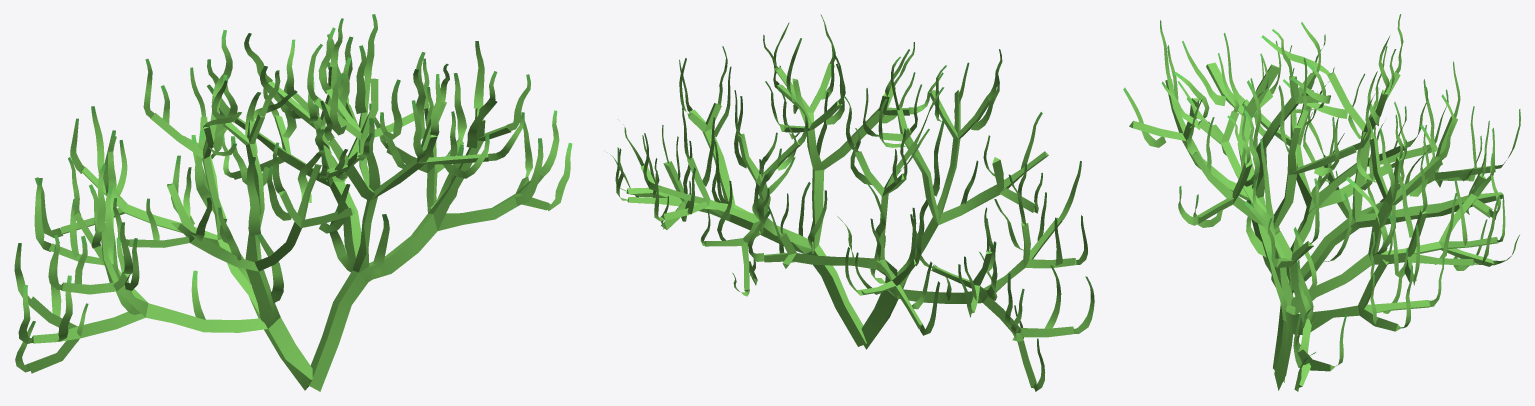
The model's file is coral_A_dense.fbx.
3 renders of one model, left to right at view 1: azimuth 30°, elevation 25°; view 2: azimuth 150°, elevation 25°; view 3: azimuth 270°, elevation 25°, orthographic. The views are drawn at different scales.
Parts seen in each view (by area): view 1: coral_A_dense; view 2: coral_A_dense; view 3: coral_A_dense.
Boxes of the visible parts, <box> form: coral_A_dense: <box>14,14,572,391</box>; coral_A_dense: <box>607,14,1094,391</box>; coral_A_dense: <box>1123,14,1520,391</box>.
Bounding box in the file's own units: 190 × 110 × 117.
